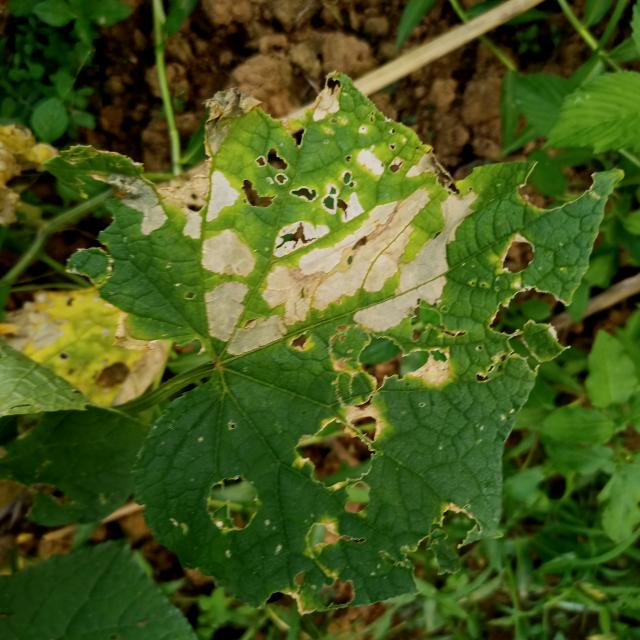disease_cucumber: (106, 110, 485, 358), (301, 238, 554, 543)
